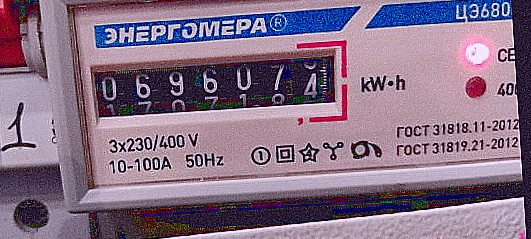0: (97, 73, 119, 102), (233, 61, 253, 91), (133, 71, 151, 98)
4: (300, 70, 319, 99)
6: (198, 63, 218, 94)
7: (266, 60, 286, 90)
9: (165, 67, 185, 97)
screen: (74, 35, 353, 136)
